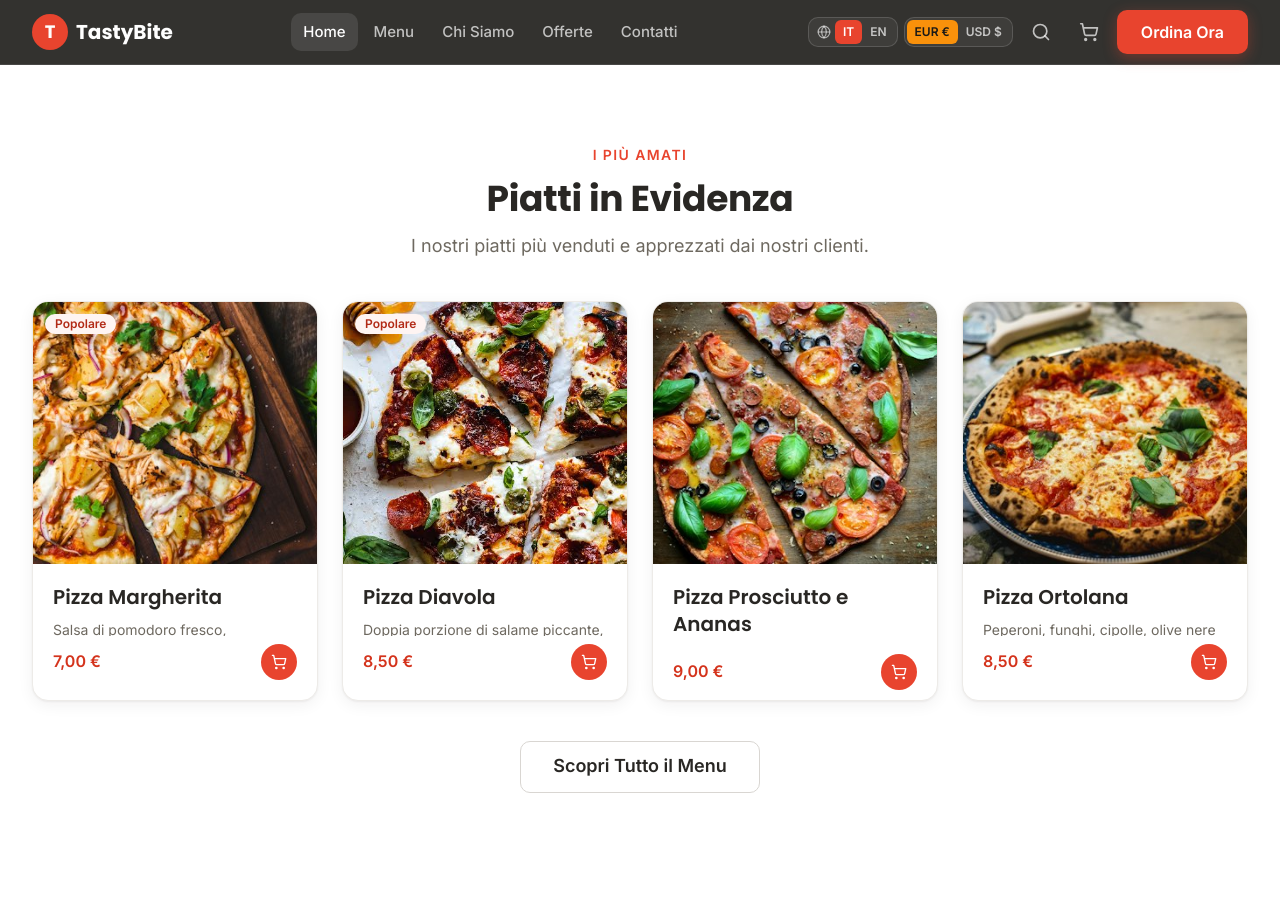
Test: Language and Currency Preferences Integration › switches language independently without changing currency, and persists
This screenshot has width=1280, height=900.
Step 1. Click the button with test id "lang-btn-en" → [878, 32], box x1=862 y1=20 x2=895 y2=44
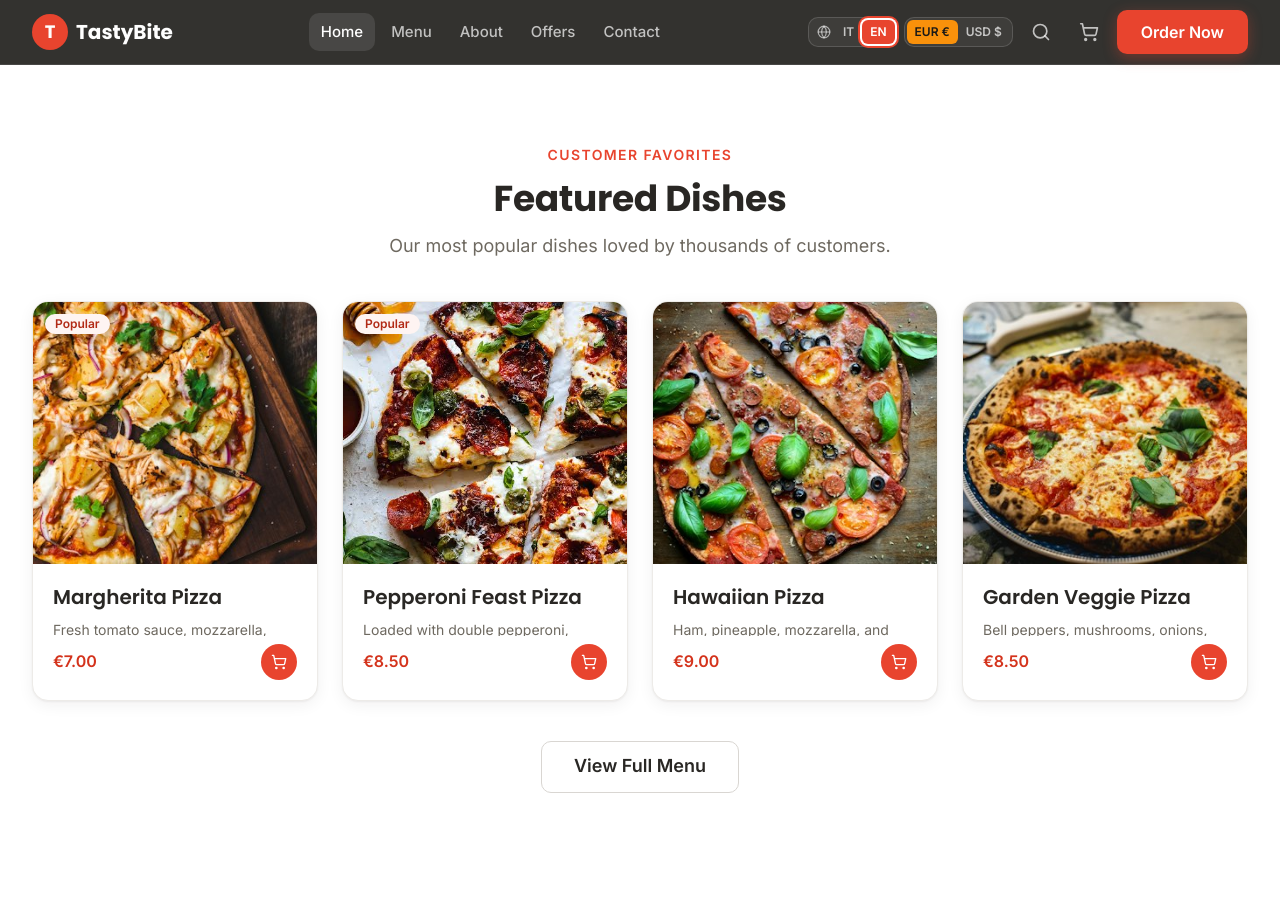
Now the heading "Featured Dishes" is shown, box x1=494 y1=177 x2=786 y2=220
Now the heading "Margherita Pizza" is shown, box x1=53 y1=583 x2=222 y2=611
Now the text "€7.00" is shown, box x1=53 y1=649 x2=97 y2=674
